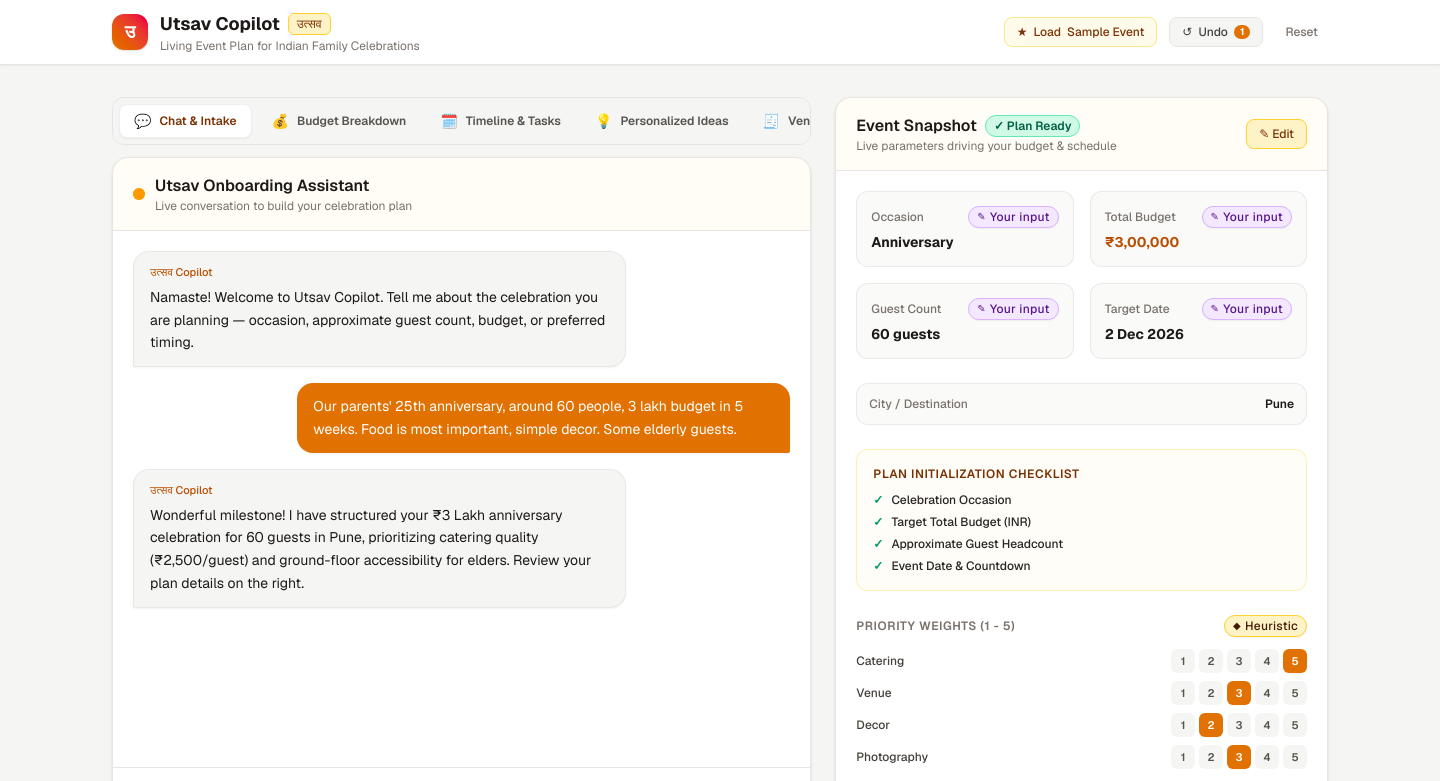
Test: Home Page Integration › switches between Intake, Budget, and Timeline tabs
The image size is (1440, 781).
# Switch to Budget tab
Click the tab "💰 Budget Breakdown": x=339, y=121 [258,105,420,137]
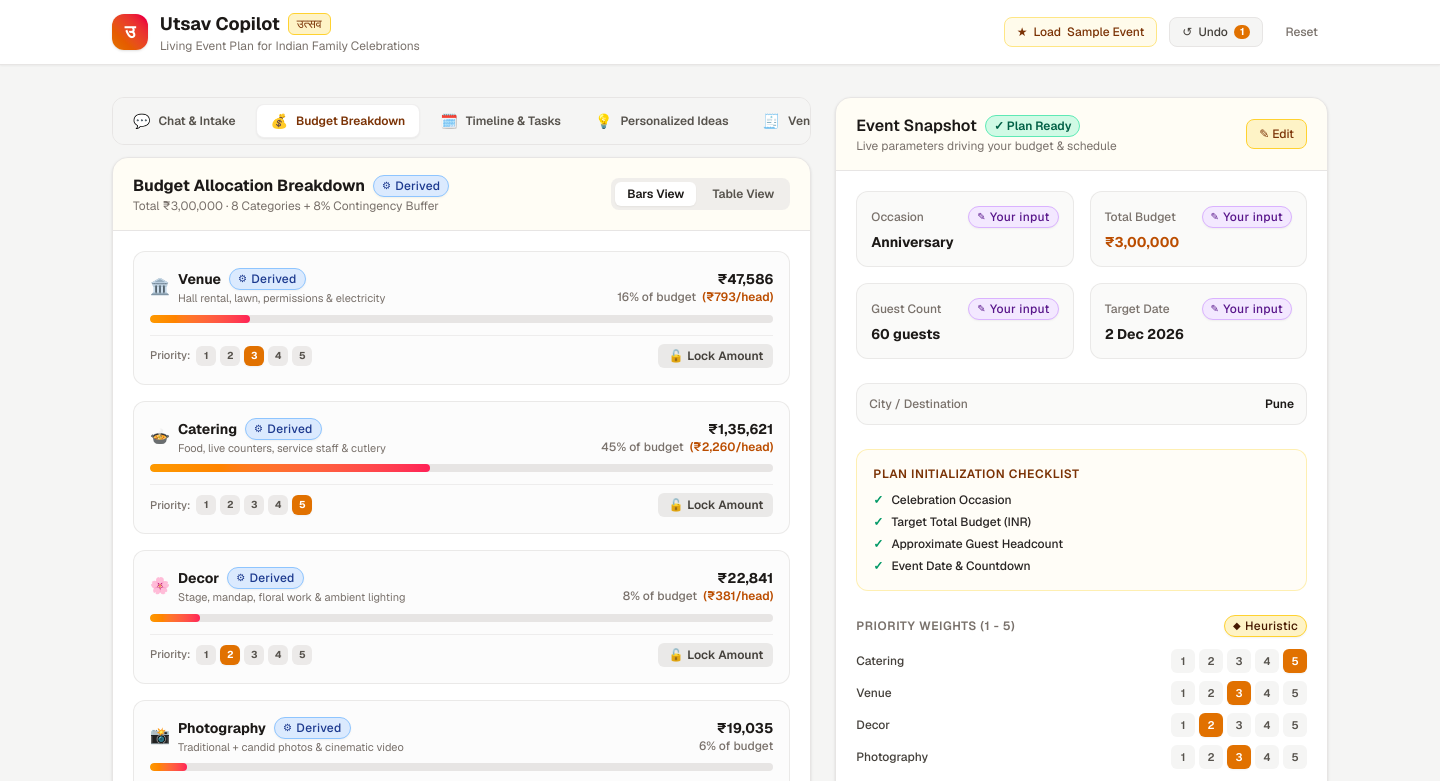
Check: the field with placeholder "Budget 4 lakh" is not shown
Check: the heading "Budget Allocation Breakdown" is shown, box [133,174,365,198]
# Switch to Timeline tab
Click the tab "🗓️ Timeline & Tasks": x=501, y=121 [426,105,575,137]
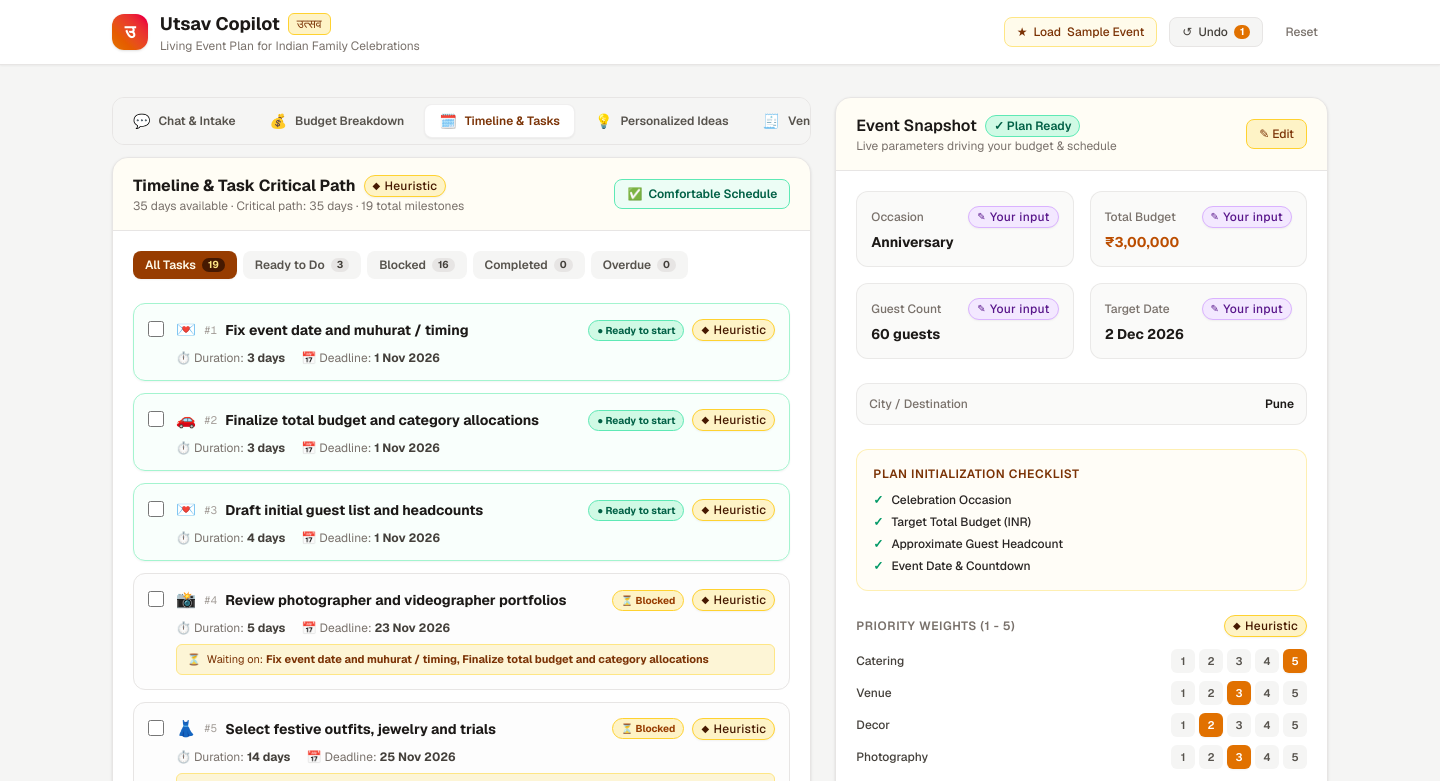
Check: the heading "Timeline & Task Critical Path" is shown, box [133,174,356,198]
Check: the heading "Budget Allocation Breakdown" is gone
# Switch back to Intake tab
Click the tab "💬 Chat & Intake": x=184, y=121 [119,105,250,137]
(page scrolled)
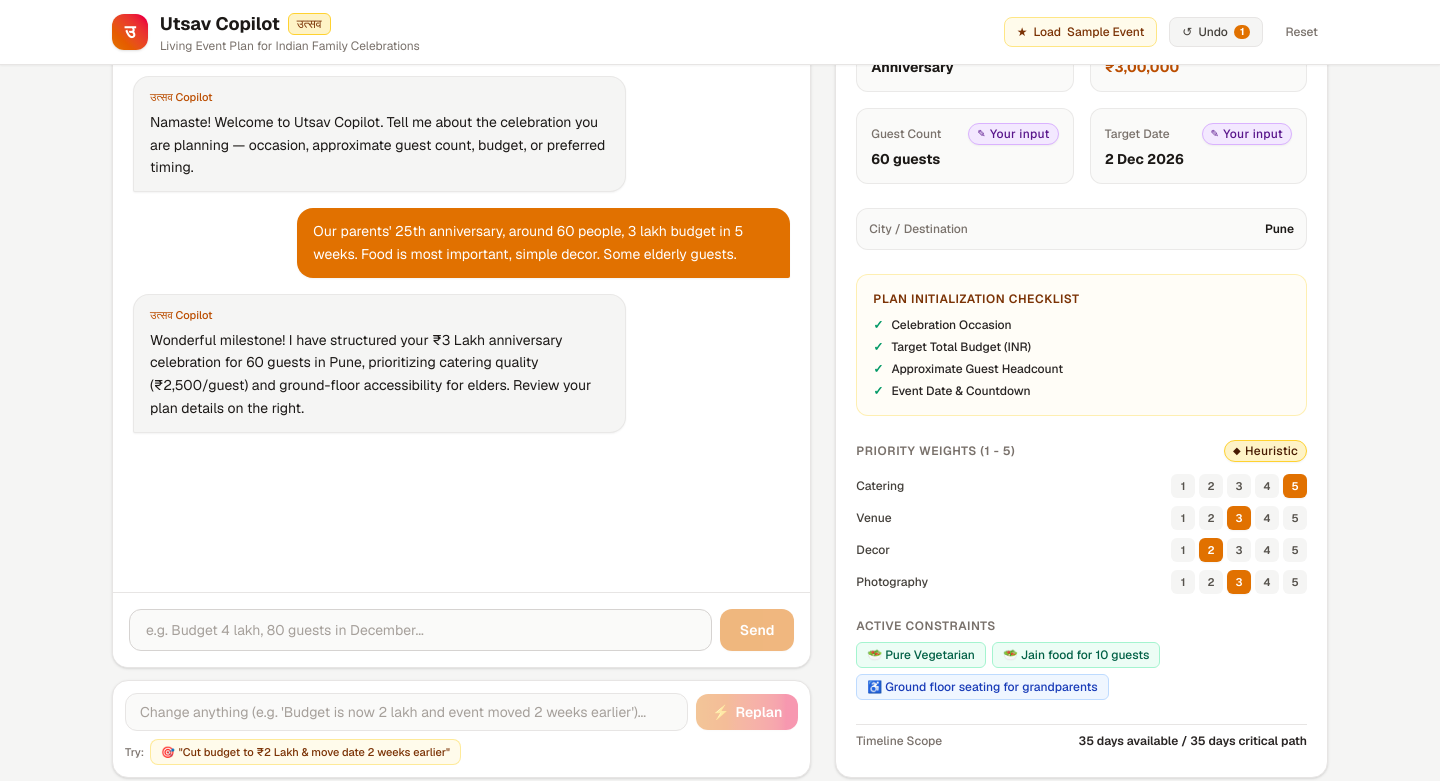
Check: the field with placeholder "e.g. Budget 4 lakh, 80 guests in December..." is shown, box [129,608,712,650]
